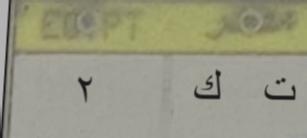2: (67, 72, 100, 107)
kaaf: (184, 68, 226, 111)
taa: (258, 71, 299, 110)
